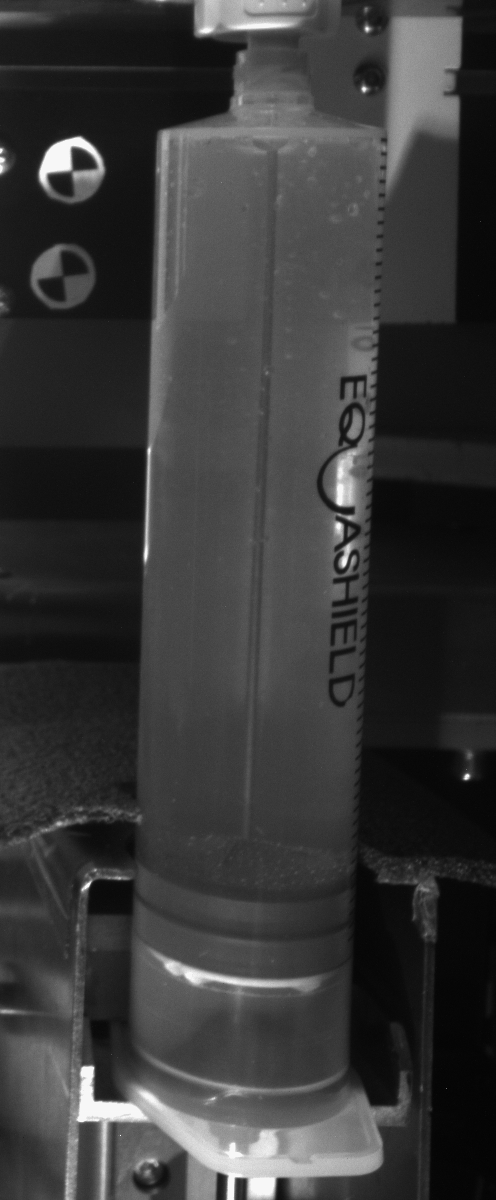piston: (129, 861, 360, 1004)
